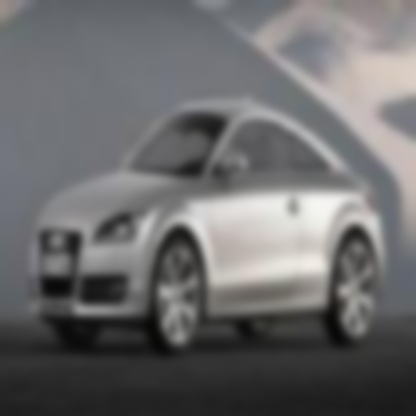Vehicle: (31, 97, 383, 351)
